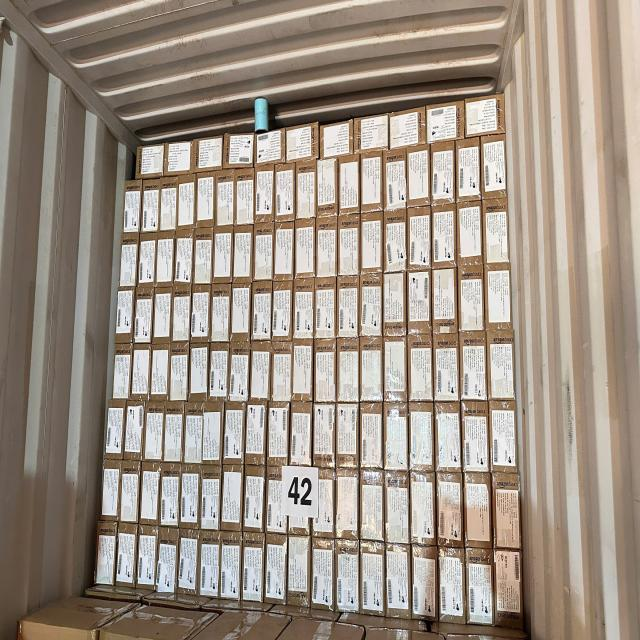Carton: (492, 550, 524, 628), (490, 474, 522, 551), (437, 546, 467, 628), (333, 540, 363, 618), (487, 401, 519, 474), (462, 472, 492, 549), (465, 548, 493, 628), (436, 470, 464, 548), (482, 264, 514, 332), (411, 545, 439, 622), (458, 332, 488, 402), (486, 331, 516, 400), (461, 400, 490, 471), (385, 542, 412, 618), (410, 474, 438, 546), (481, 196, 510, 265), (384, 471, 411, 543), (406, 266, 434, 334), (432, 333, 460, 401), (263, 534, 289, 607), (361, 539, 385, 617), (435, 403, 462, 472), (406, 203, 432, 274), (288, 533, 312, 609), (334, 471, 360, 541), (457, 270, 486, 332), (456, 200, 482, 269), (383, 336, 409, 405), (382, 406, 410, 470), (360, 468, 384, 542), (431, 200, 457, 268), (409, 404, 435, 472), (481, 136, 509, 199), (464, 94, 508, 134), (383, 268, 408, 338), (432, 267, 458, 334), (406, 143, 432, 209), (407, 337, 433, 403), (336, 404, 362, 470), (312, 538, 335, 612), (241, 532, 264, 606), (310, 468, 334, 538), (220, 530, 242, 604), (359, 404, 384, 469), (383, 148, 409, 210), (314, 405, 338, 472), (426, 100, 466, 140), (383, 210, 408, 274), (456, 139, 482, 200), (432, 141, 458, 202), (361, 271, 385, 337), (336, 273, 360, 339), (265, 469, 289, 535), (94, 522, 118, 588), (336, 338, 360, 403), (314, 276, 338, 340), (313, 340, 337, 404), (361, 210, 384, 276), (289, 465, 311, 534), (222, 464, 244, 532), (157, 527, 179, 595), (360, 150, 384, 212), (316, 156, 340, 218), (295, 159, 319, 221), (290, 406, 314, 468), (361, 338, 384, 402), (199, 531, 220, 601), (337, 212, 359, 278), (116, 522, 138, 588), (291, 341, 314, 404), (293, 276, 315, 341), (270, 338, 292, 403), (200, 464, 221, 532), (245, 407, 269, 466), (252, 276, 274, 340), (137, 525, 158, 592), (179, 530, 199, 599), (354, 112, 390, 150), (230, 279, 252, 341), (210, 280, 232, 342), (268, 407, 290, 469), (273, 276, 294, 340), (390, 106, 426, 143), (252, 223, 274, 283), (294, 220, 316, 280), (140, 460, 160, 526), (228, 340, 249, 402), (192, 280, 212, 345), (120, 459, 140, 524), (246, 467, 266, 532), (171, 285, 193, 344), (114, 286, 136, 345), (339, 156, 362, 212), (250, 340, 270, 404), (254, 164, 276, 222), (185, 402, 205, 465), (195, 170, 217, 227), (209, 344, 231, 401), (255, 125, 287, 164), (224, 404, 245, 462), (163, 403, 184, 461), (274, 221, 294, 281), (180, 465, 199, 528), (285, 125, 320, 159), (320, 121, 354, 156), (317, 220, 337, 279), (276, 162, 296, 220), (131, 346, 151, 404), (149, 344, 169, 402), (189, 346, 209, 404), (204, 407, 224, 465), (122, 177, 143, 232), (168, 343, 186, 407), (140, 180, 162, 232), (144, 402, 164, 459), (161, 464, 179, 527), (178, 174, 198, 230), (106, 400, 126, 456), (234, 223, 252, 285), (160, 175, 180, 230), (223, 133, 255, 167), (125, 402, 144, 459), (136, 142, 166, 178), (173, 231, 193, 285), (194, 230, 214, 284), (213, 229, 233, 283), (134, 285, 152, 345), (102, 460, 120, 520), (237, 168, 256, 224), (153, 286, 171, 344), (216, 171, 236, 223), (118, 234, 138, 286), (112, 347, 132, 399), (166, 140, 196, 174), (156, 230, 174, 286), (196, 138, 224, 172), (138, 232, 154, 286)
